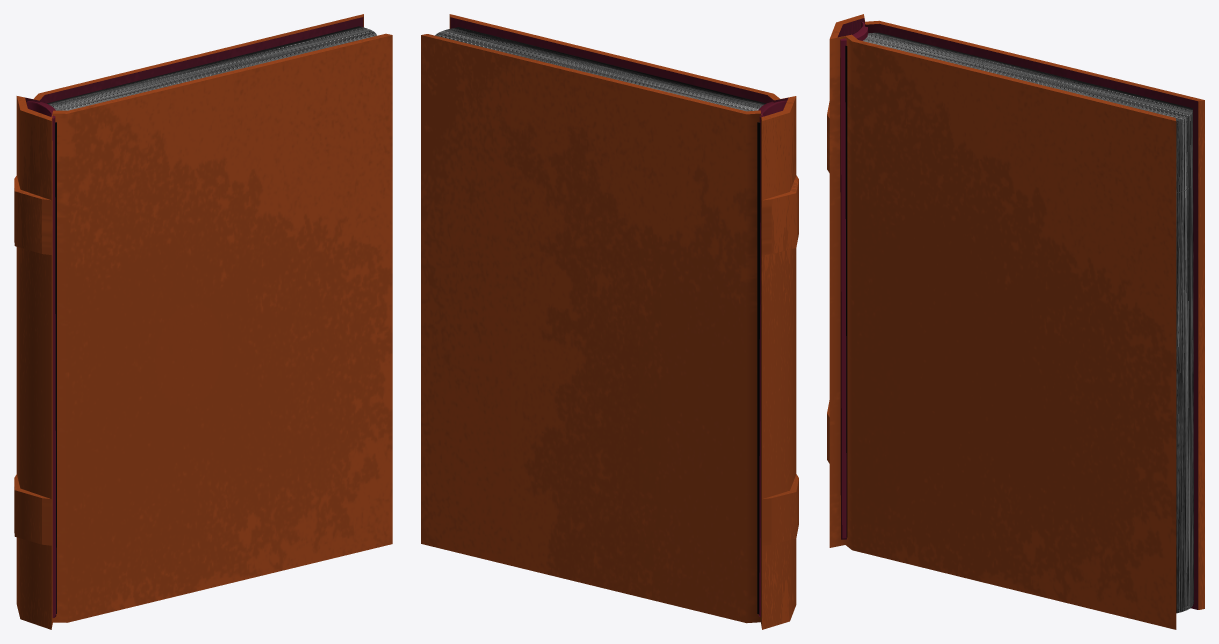
File: book03.fbx
3 renders of one model, left to right at view 1: azimuth 30°, elevation 25°; view 2: azimuth 150°, elevation 25°; view 3: azimuth 330°, elevation 25°, orthographic.
Visible parts, largest first — view 1: pCube14, pages4, spine3; view 2: pCube14, pages4, spine3; view 3: pCube14, pages4, spine3.
Boxes of the visible parts, x1,y1,x2,y2 form: pCube14: (14, 14, 392, 629); pages4: (47, 26, 376, 613); spine3: (27, 101, 56, 617); pCube14: (421, 14, 798, 629); pages4: (435, 27, 766, 613); spine3: (758, 100, 786, 616); pCube14: (827, 14, 1204, 629); pages4: (845, 32, 1193, 613); spine3: (840, 21, 868, 539).
Size of the model in its own units: 0.7345 by 0.9856 by 0.1212.
